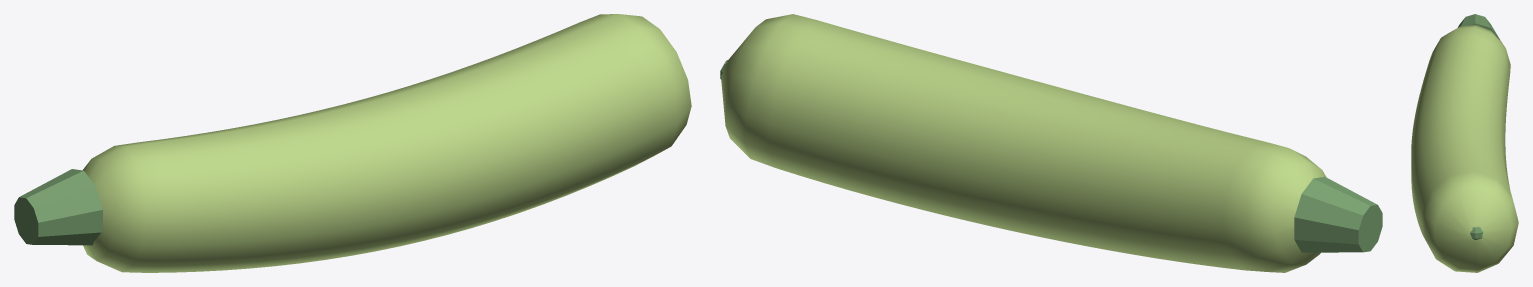
The model's file is fresh-produce-and-groceries-courgette-08850309__24375.glb.
The picture shows the model from 3 angles, left to right: view 1: azimuth 30°, elevation 25°; view 2: azimuth 150°, elevation 25°; view 3: azimuth 270°, elevation 25°; orthographic projection. The views are drawn at different scales.
Parts seen in each view (by area): view 1: courgette; view 2: courgette; view 3: courgette.
Boxes of the visible parts, x1,y1,x2,y2 form: courgette: (14, 14, 691, 272); courgette: (720, 14, 1382, 272); courgette: (1411, 14, 1518, 272).
Size of the model in its own units: 0.2149 by 0.0495 by 0.0472.
